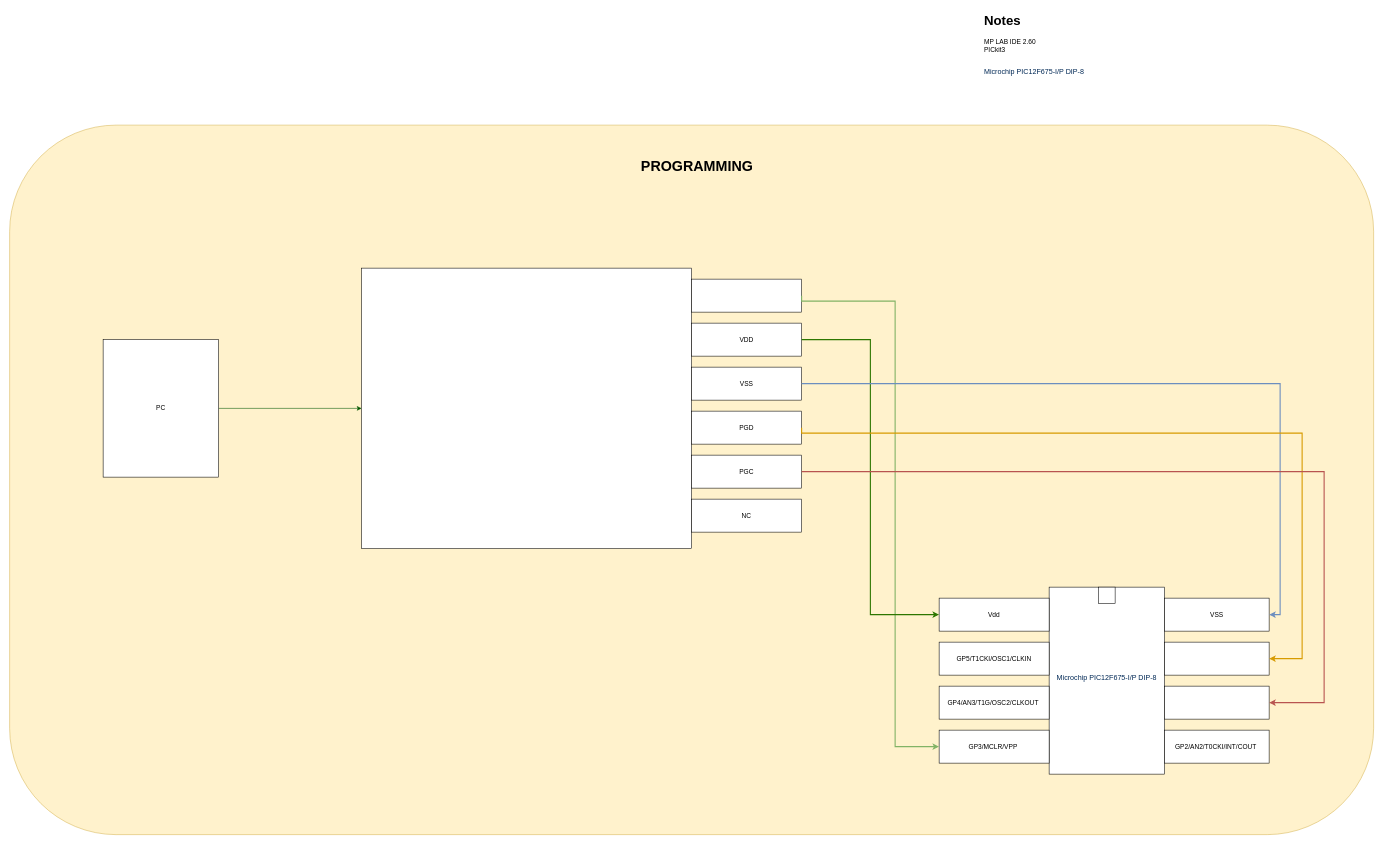
This 1383x844 diagram has some shape labels left out. The centre of each missing label's shape, as x and y in pixels:
GP0/AN0/CIN+/ICSPDAT: (1216,658)
GP1/AN1/CIN-/VREF/ICSPCLK: (1216,702)
MCLR-1: (746,295)
PICkit 3: (526,408)
